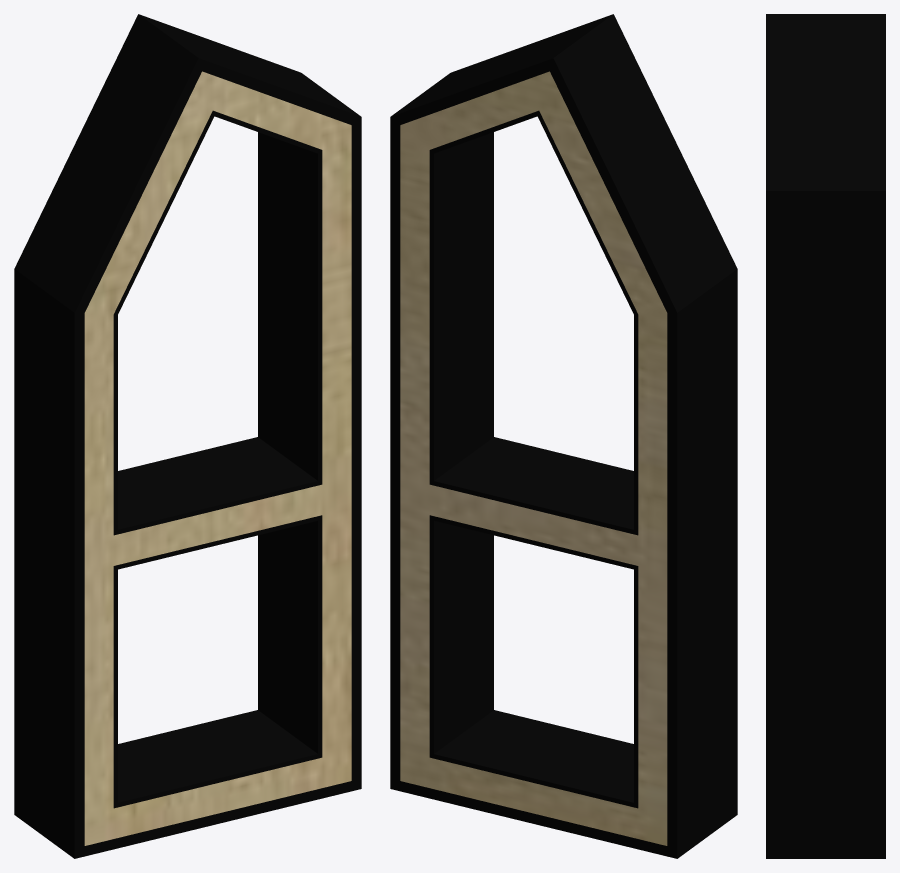
The picture shows the model from 3 angles, left to right: view 1: azimuth 30°, elevation 25°; view 2: azimuth 150°, elevation 25°; view 3: azimuth 270°, elevation 25°; orthographic projection.
Parts seen in each view (by area): view 1: B-2; view 2: B-2; view 3: B-2.
Part boxes in pixels (x1,y1,x2,y2): B-2: [14, 14, 361, 858]; B-2: [390, 14, 737, 858]; B-2: [766, 14, 885, 858].
Bounding box in the file's own units: 3.3 × 8.47 × 1.2.
2 materials, 1 textured.
